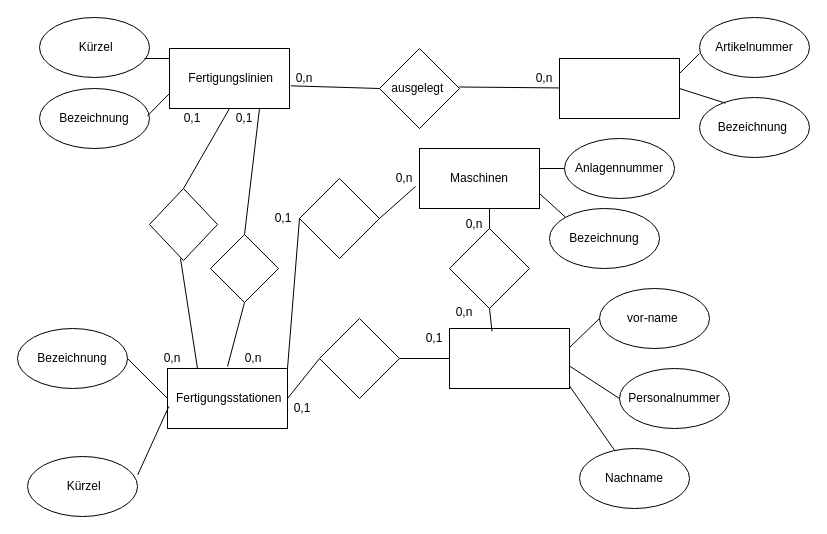
The diagram is 827 pixels wide and 534 high, and some of its shapes have lost their labels. The shapes that lost their labels are listed below. From the top down, each one's box as (x1, y1, x2, y2) in pixels, then its label:
(558, 58, 680, 118): Produkts
(148, 188, 218, 260): besteht
(298, 178, 380, 258): verwendet
(210, 234, 278, 302): speichern
(448, 228, 530, 308): bedienen
(318, 318, 400, 398): arbeiten
(448, 328, 570, 388): Mitarbeiter
